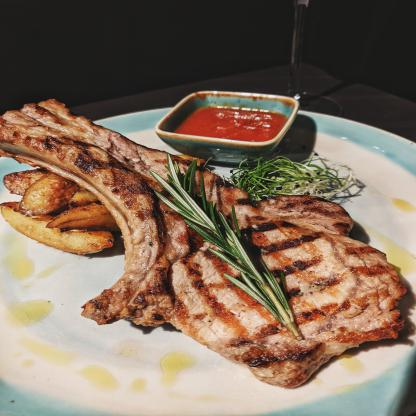Carne: (156, 158, 416, 390)
